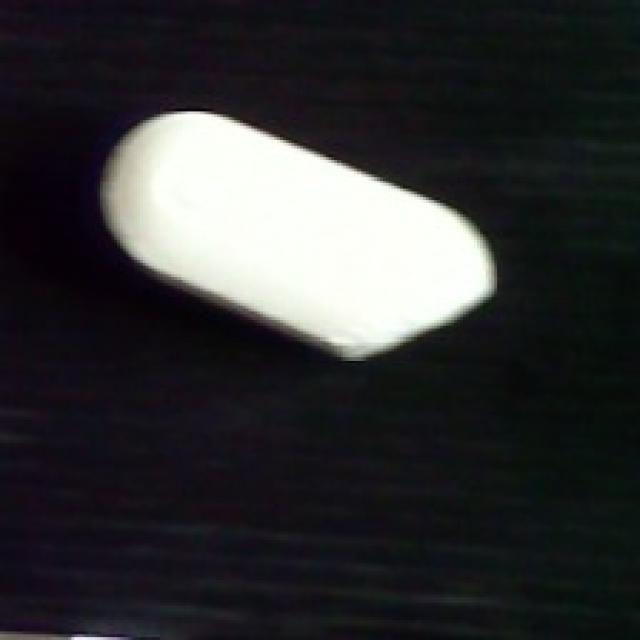defected: (94, 108, 503, 366)
